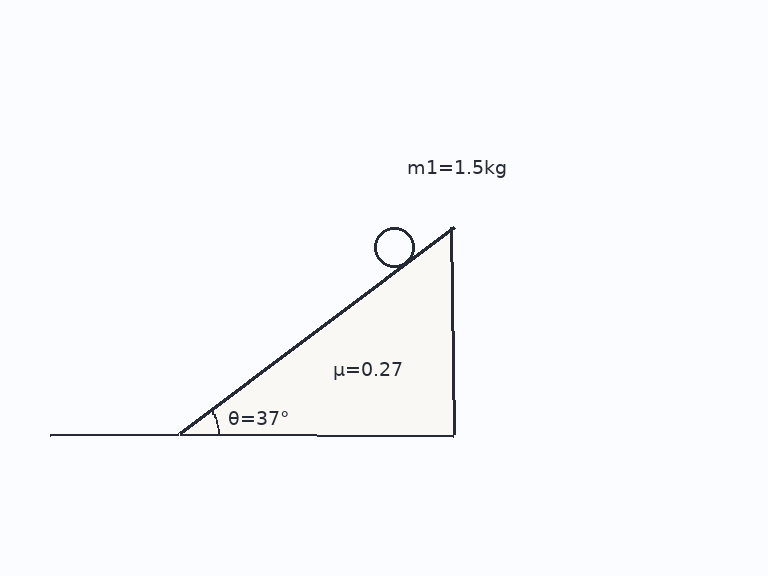ball: (372, 225, 416, 269)
ramp: (177, 226, 455, 436)
